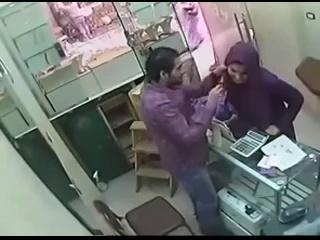Normal: (140, 47, 232, 235), (216, 42, 304, 142), (94, 196, 195, 236), (230, 128, 270, 158)
